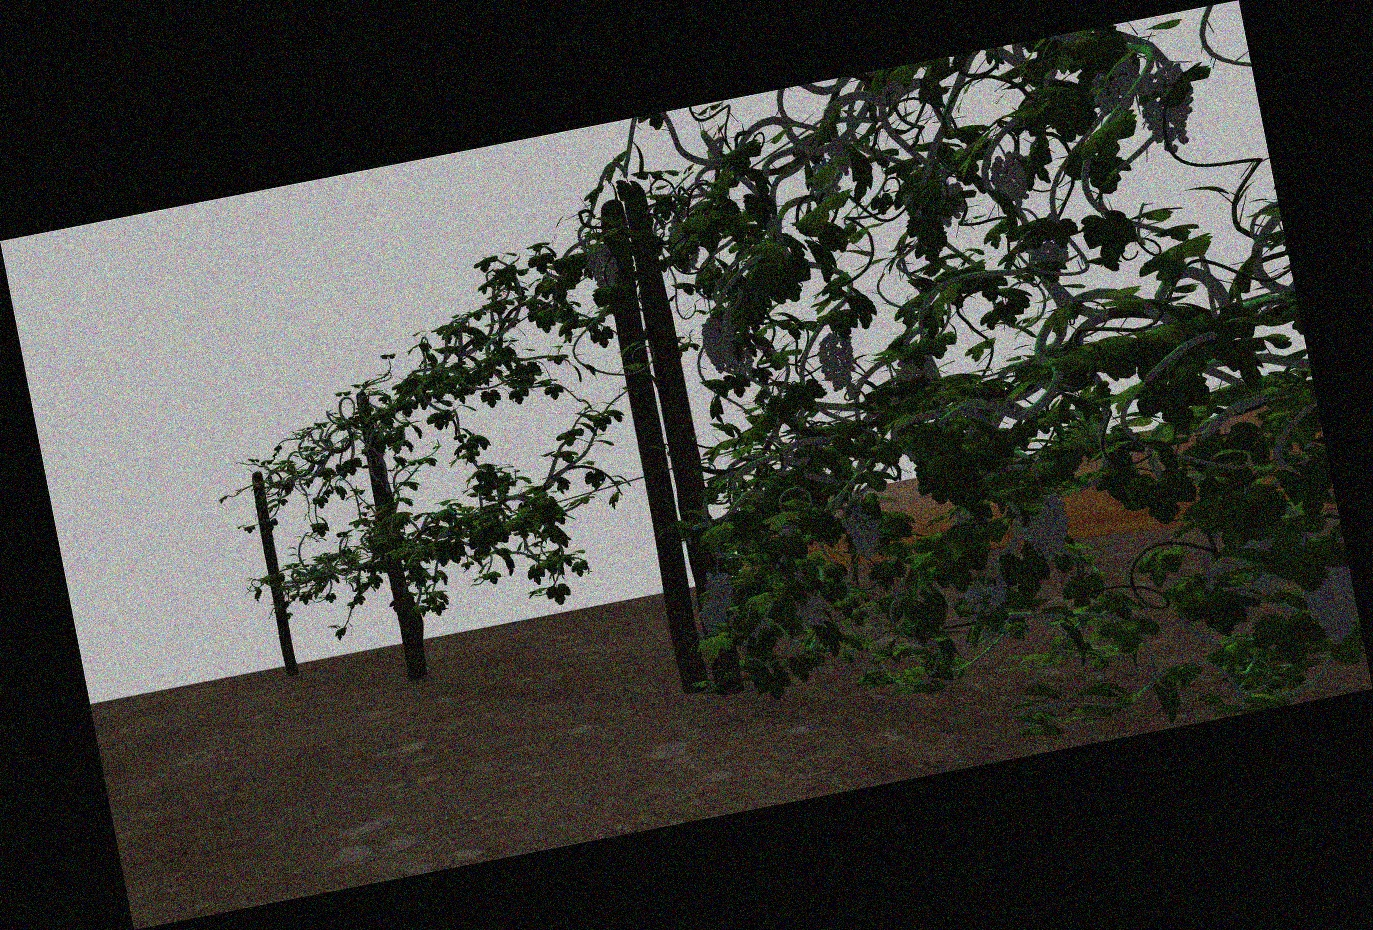grape: (1141, 67, 1197, 148), (1308, 571, 1353, 645), (1024, 495, 1072, 564), (1091, 63, 1139, 115), (991, 151, 1031, 208), (820, 333, 857, 390), (702, 316, 739, 373), (847, 507, 882, 560), (965, 577, 1008, 616), (587, 245, 617, 290), (796, 586, 827, 626), (701, 603, 731, 639), (706, 570, 732, 611)
